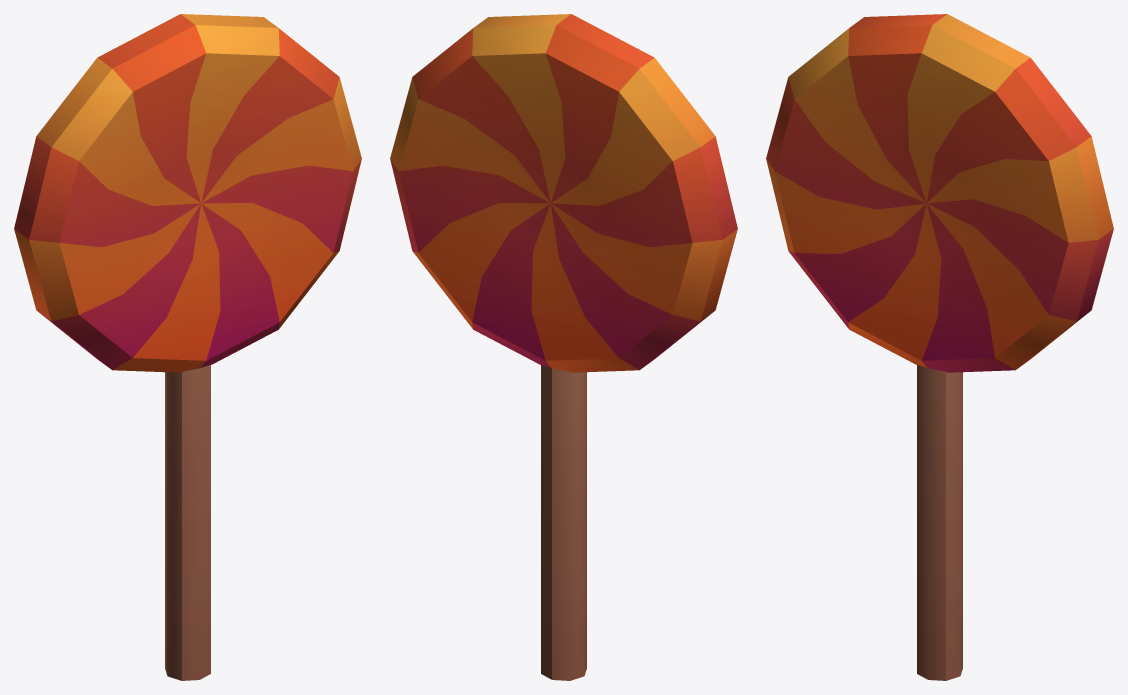
File: lollipop_orange.glb
3 views of the same model, side by side, from view 1: azimuth 30°, elevation 25°; view 2: azimuth 150°, elevation 25°; view 3: azimuth 330°, elevation 25° (orthographic).
Visible parts, largest first — view 1: lollipop_orange; view 2: lollipop_orange; view 3: lollipop_orange.
Boxes of the visible parts, x1,y1,x2,y2 form: lollipop_orange: (14, 14, 361, 680); lollipop_orange: (390, 14, 737, 680); lollipop_orange: (766, 14, 1113, 680).
Bounding box in the file's own units: 0.65 × 1.23 × 0.1239.
Materials: 1 (1 with a texture image).
